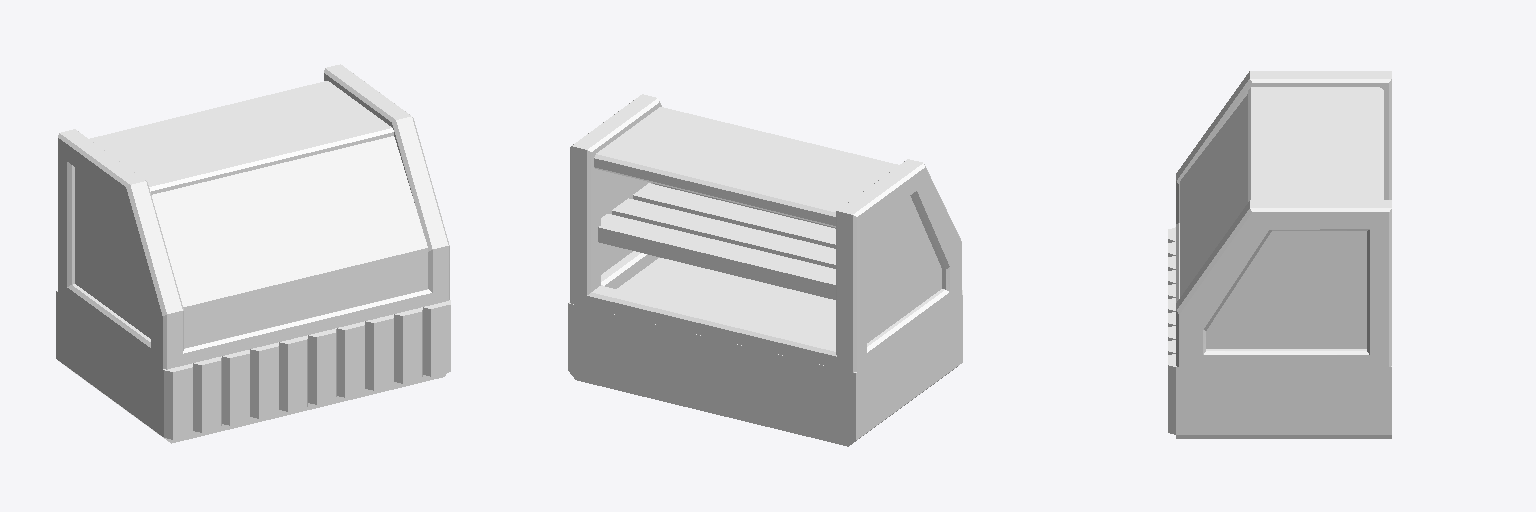
The model's file is display_case_long.obj.
3 views of the same model, side by side, from view 1: azimuth 30°, elevation 25°; view 2: azimuth 150°, elevation 25°; view 3: azimuth 270°, elevation 25° (orthographic).
Visible parts, largest first — view 1: display_case_long; view 2: display_case_long; view 3: display_case_long.
Boxes of the visible parts, box(x1,y1,x2,y2) form: display_case_long: box(56, 64, 450, 443); display_case_long: box(568, 94, 962, 446); display_case_long: box(1168, 71, 1391, 438).
Size of the model in its own units: 2 by 1.55 by 1.35.